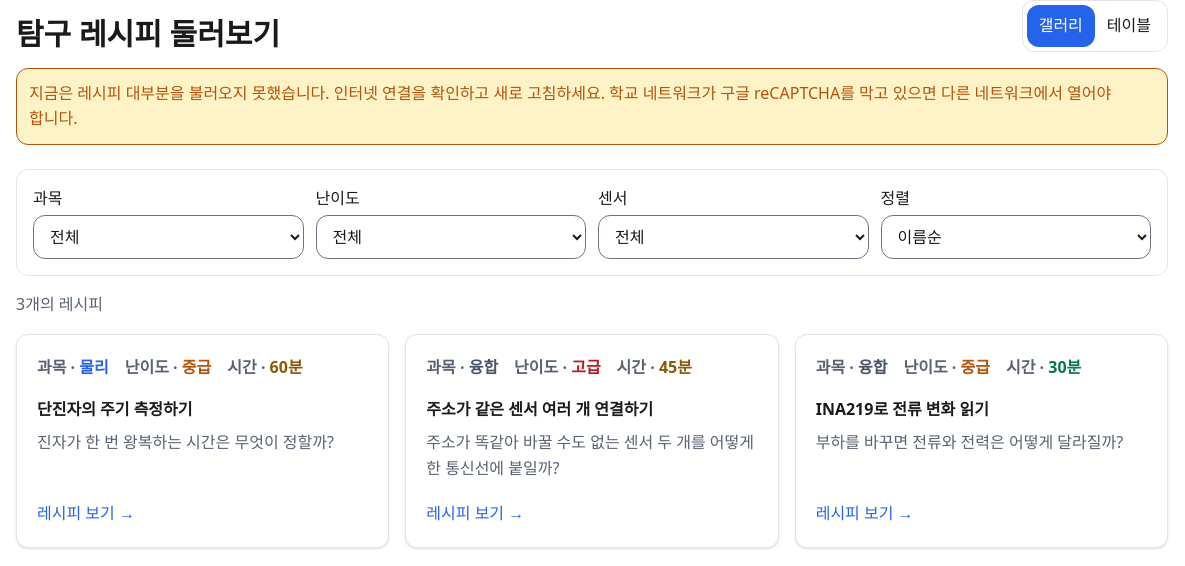
Test: Phase 3 student flow › offers a way out when the recipe filters leave nothing
Select "생물" in the dropdown labelled "과목" at point(168, 237), box [33,215,304,259]
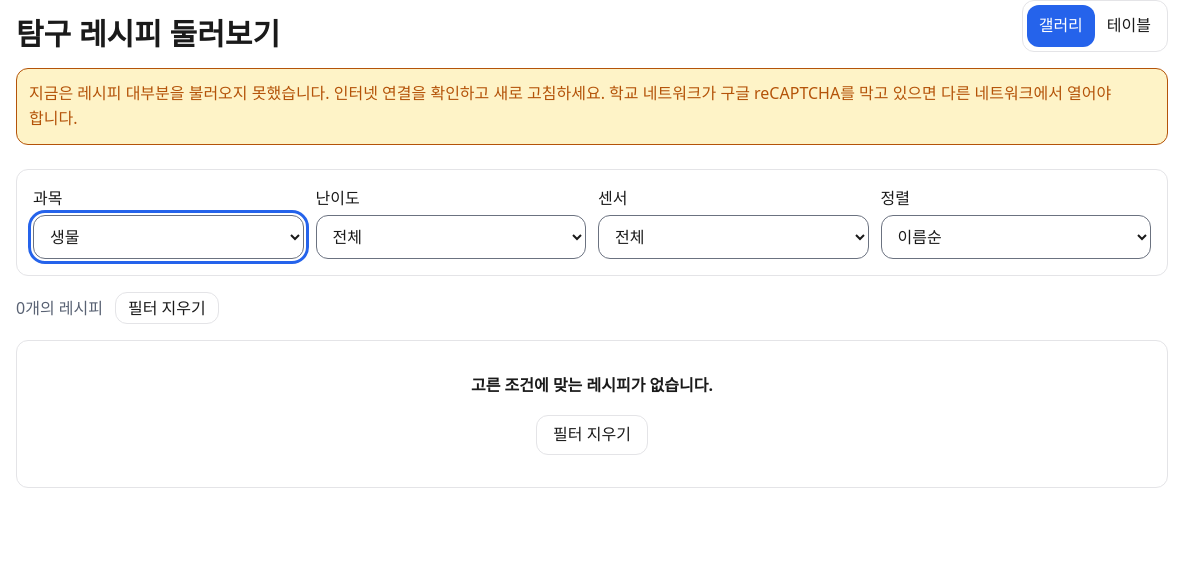
Result: the text "0개의 레시피" is shown at [16,296,103,321]
Result: the text "고른 조건에 맞는 레시피가 없습니다." is shown at [471,374,713,396]
Click the button "필터 지우기" next to "개의 레시피".
click(167, 308)  # box [115,292,219,324]
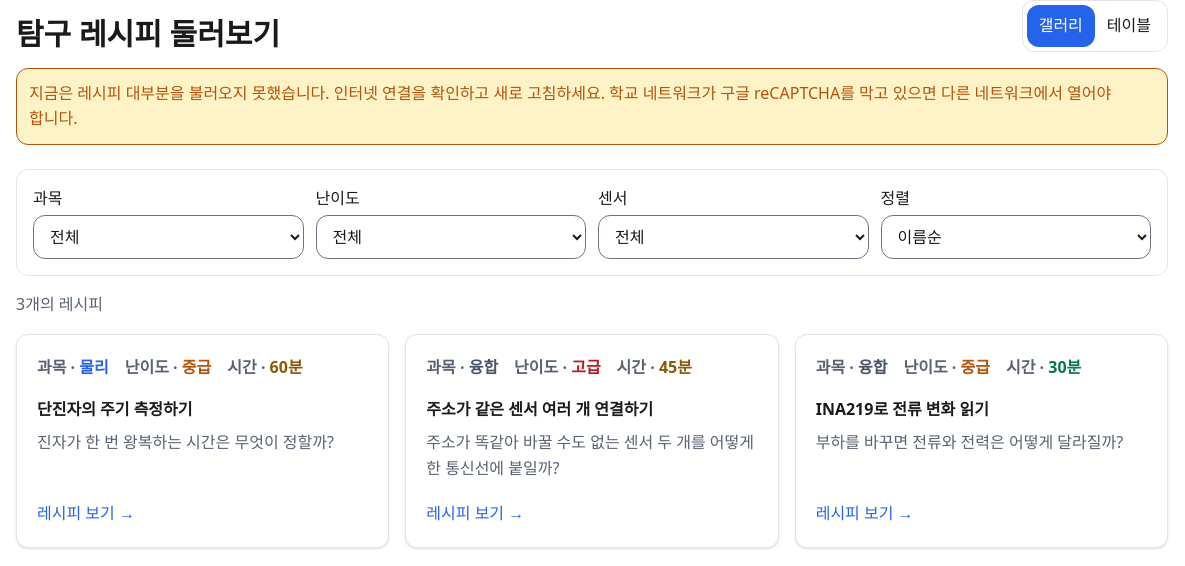
Result: the text "0개의 레시피" is gone
